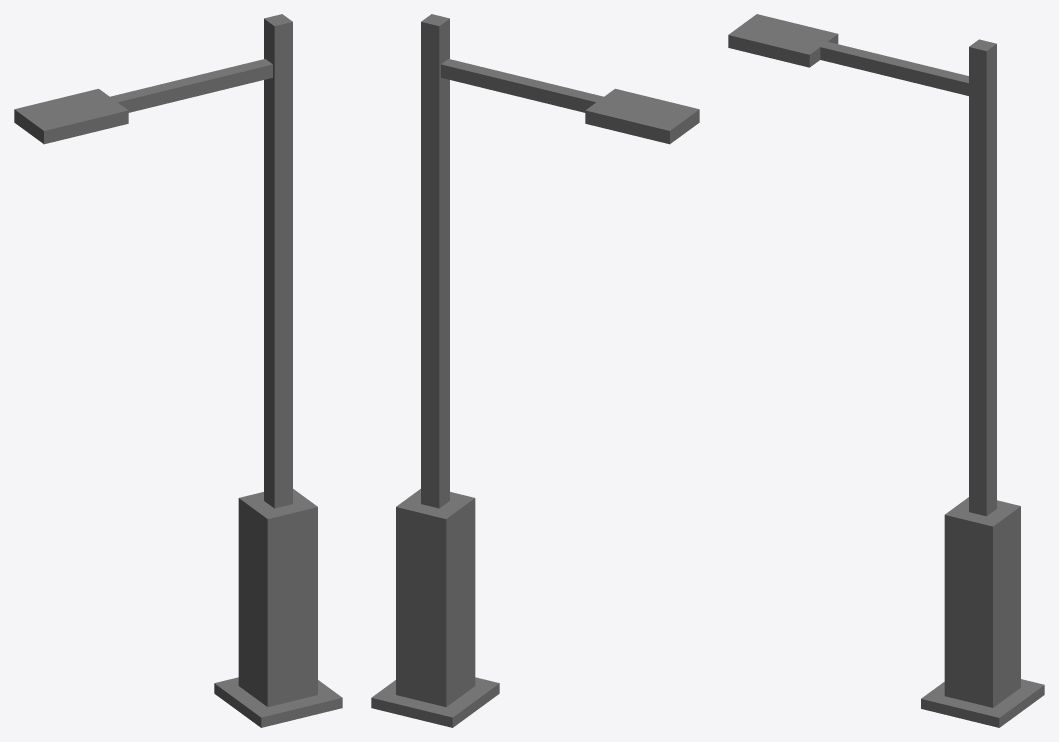
The model's file is Lamp.fbx.
3 renders of one model, left to right at view 1: azimuth 30°, elevation 25°; view 2: azimuth 150°, elevation 25°; view 3: azimuth 330°, elevation 25°, orthographic. The views are drawn at different scales.
Parts seen in each view (by area): view 1: Cube; view 2: Cube; view 3: Cube.
Boxes of the visible parts, bbox=[...] form: Cube: bbox=[14, 14, 342, 727]; Cube: bbox=[371, 14, 699, 727]; Cube: bbox=[728, 14, 1044, 727].
Size of the model in its own units: 1516 by 3401 by 426.
